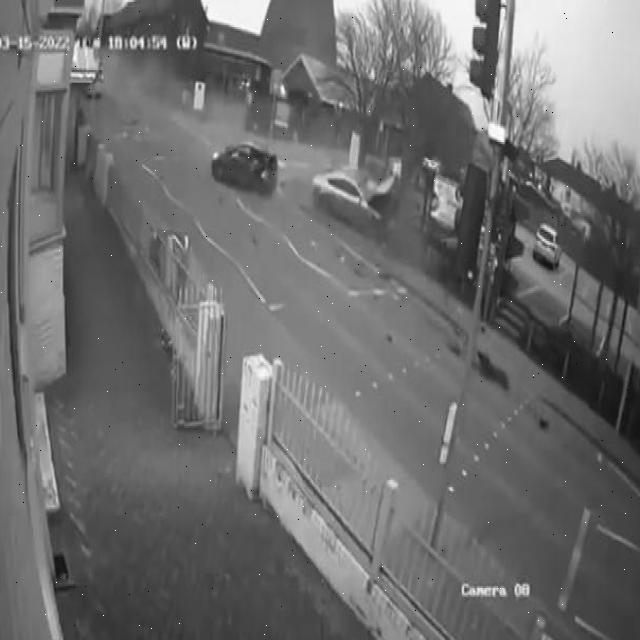accident: (296, 153, 409, 253), (204, 122, 284, 205)
